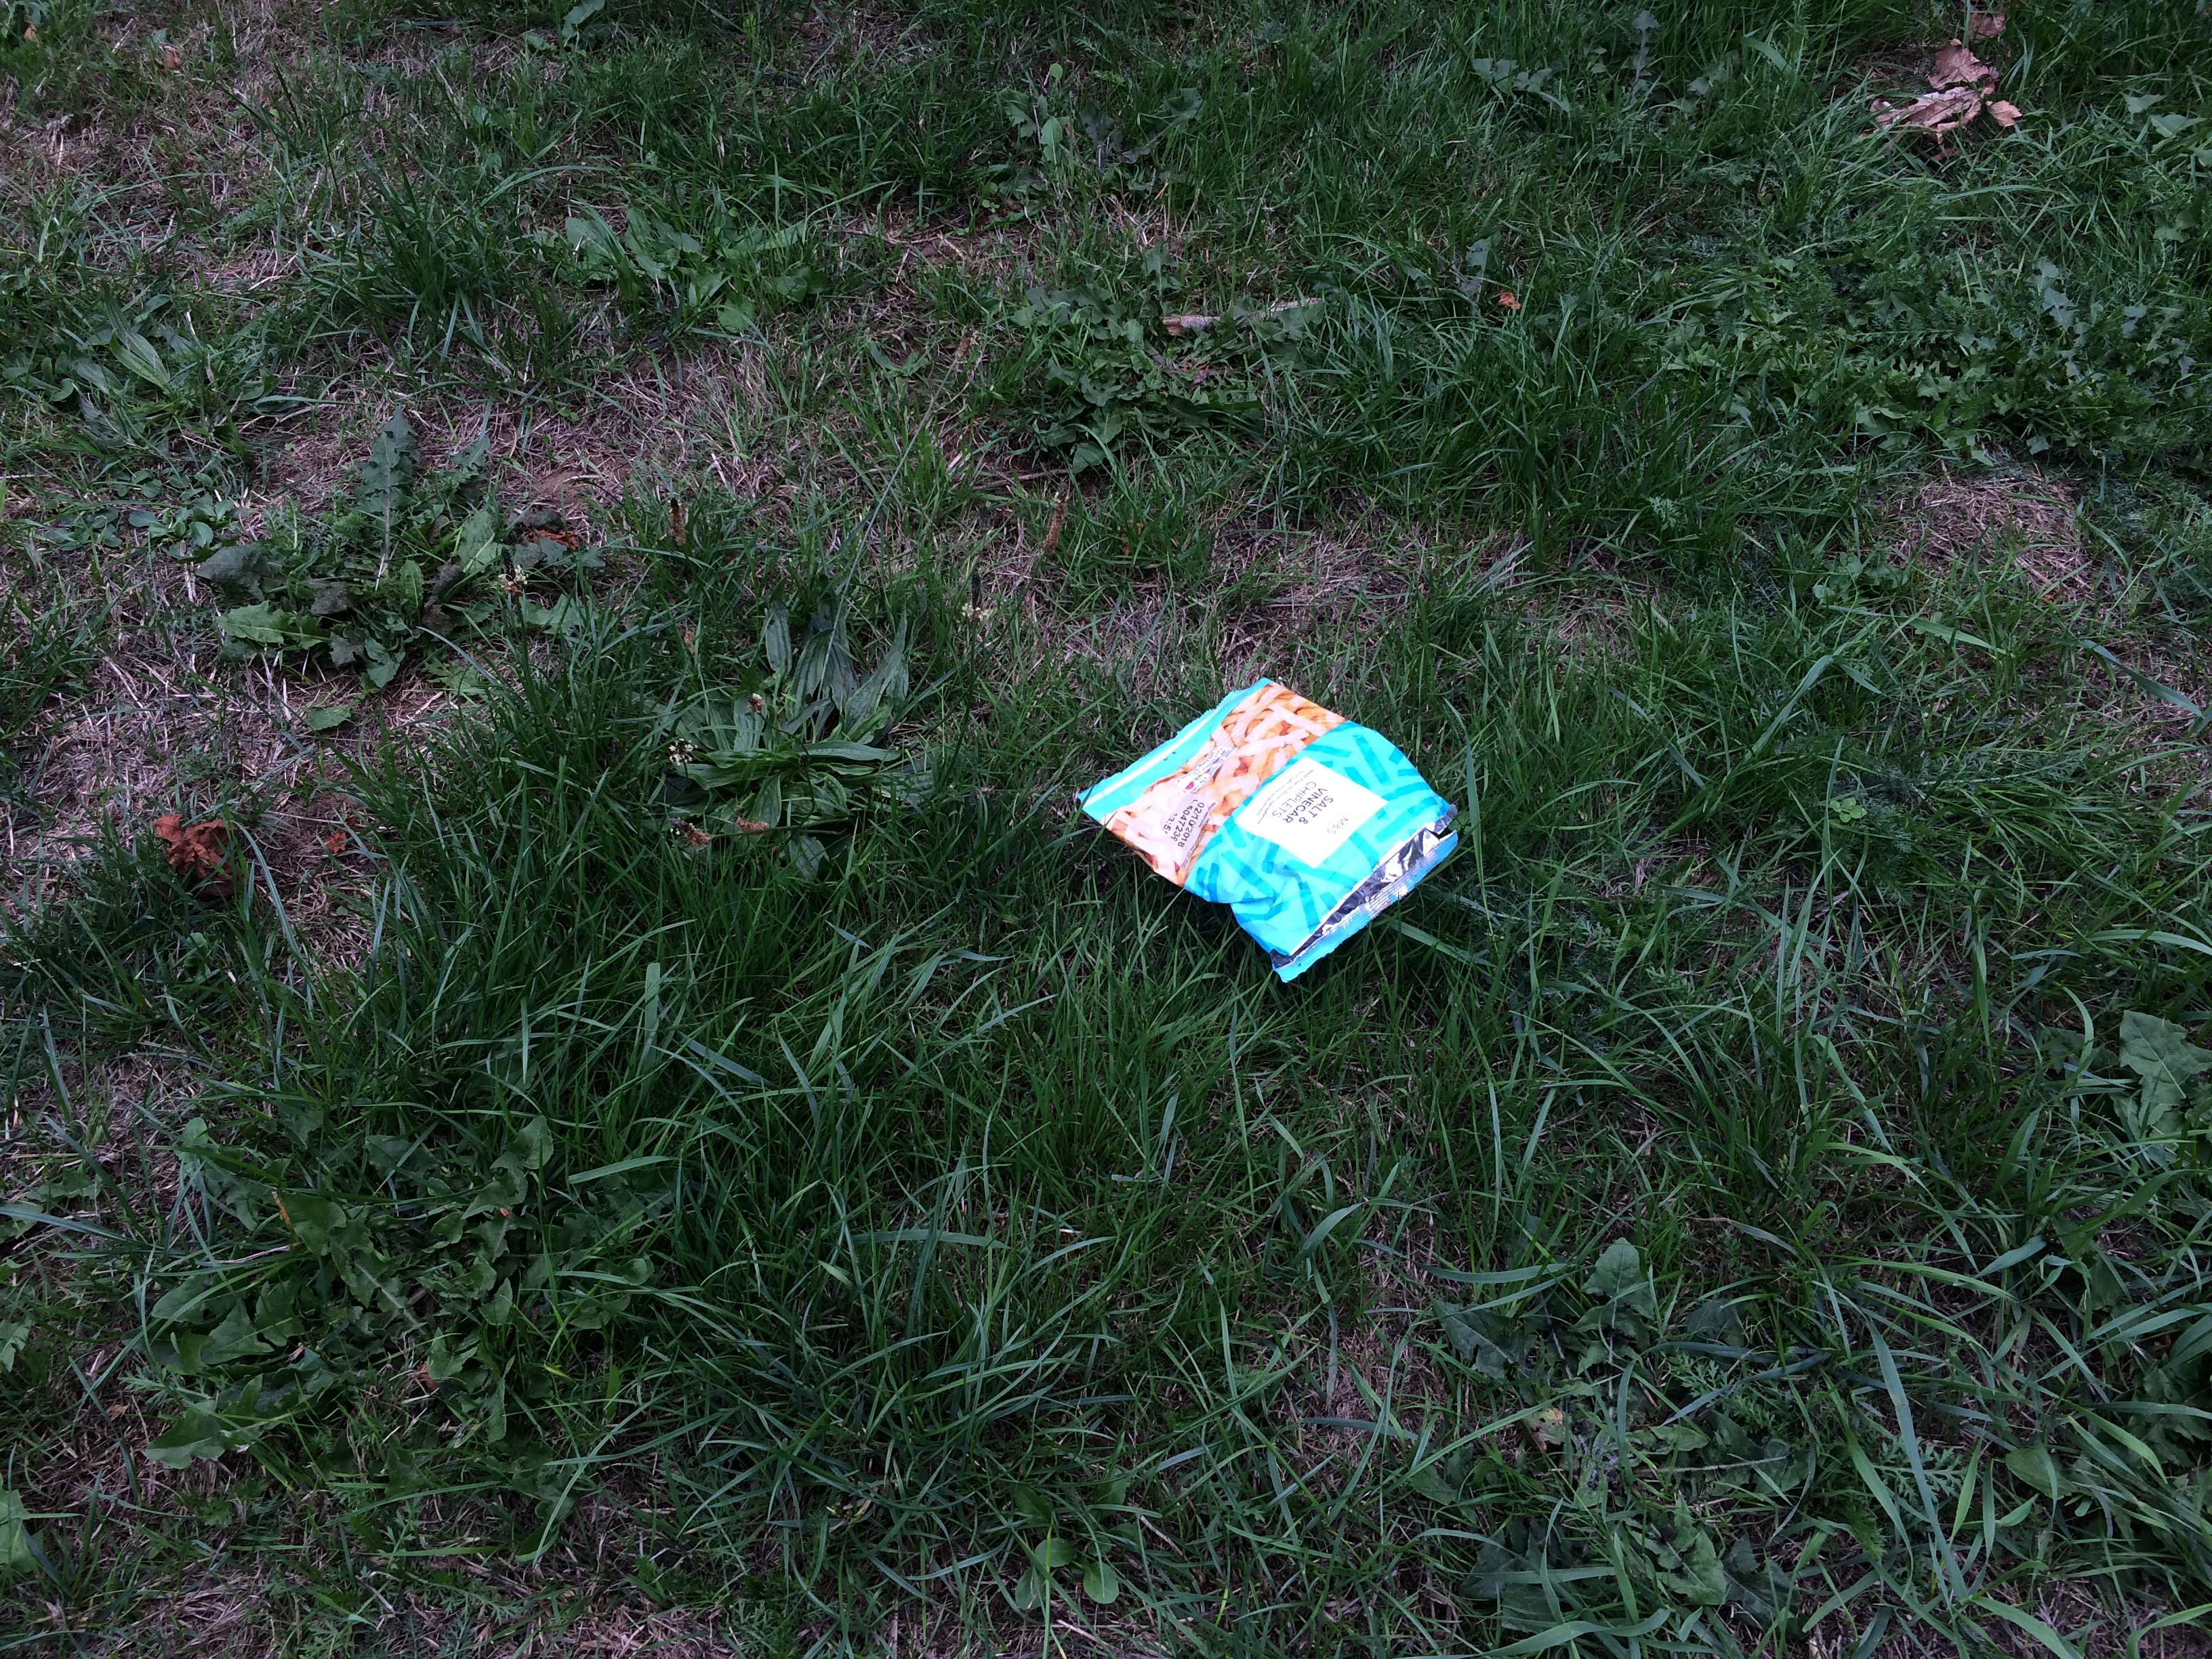Trash: (1075, 680, 1468, 976)
